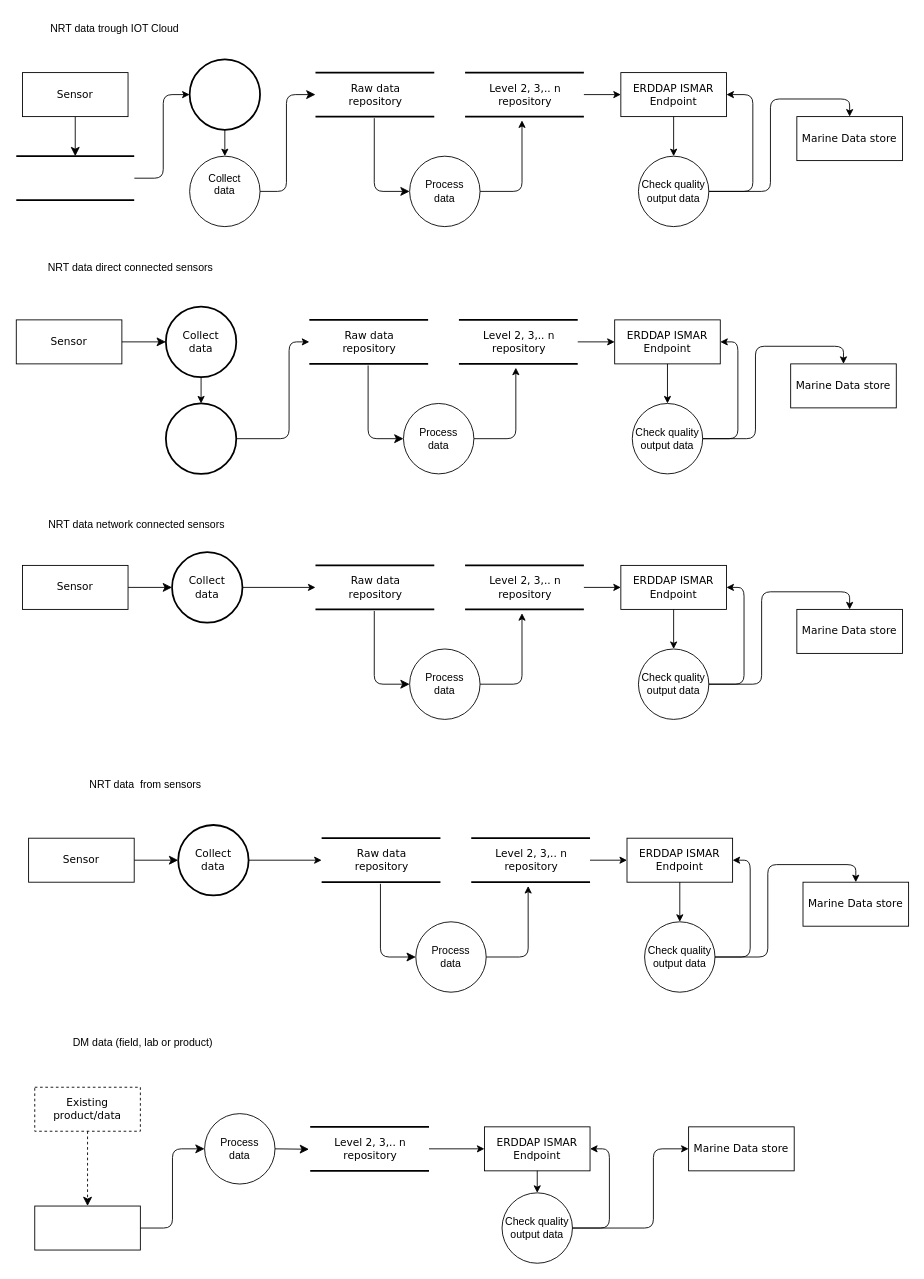
Some shapes in this 924 by 1279 pixel diagram are drawn without their labels. Here are the shapes that lost their labels. From the top down, the centre of each, then its label:
point 224,94: Forward Data
point 75,178: IOT cloud
point 201,438: Export data
point 87,1227: Data Producer
